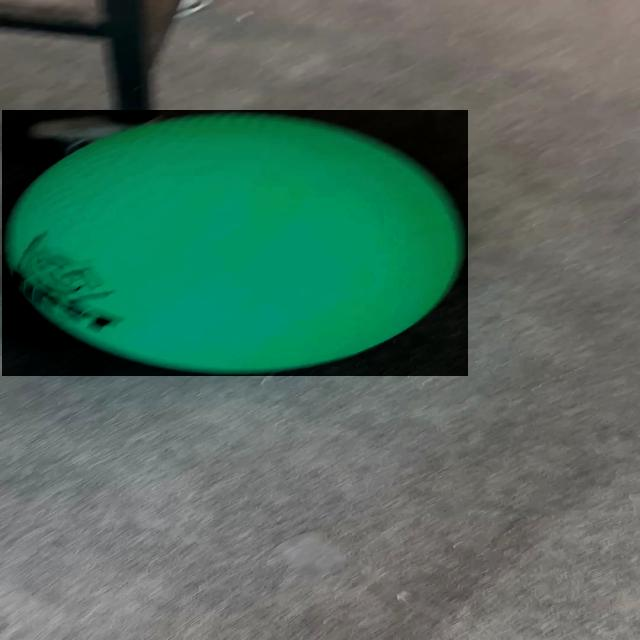Algae: (2, 110, 468, 376)
